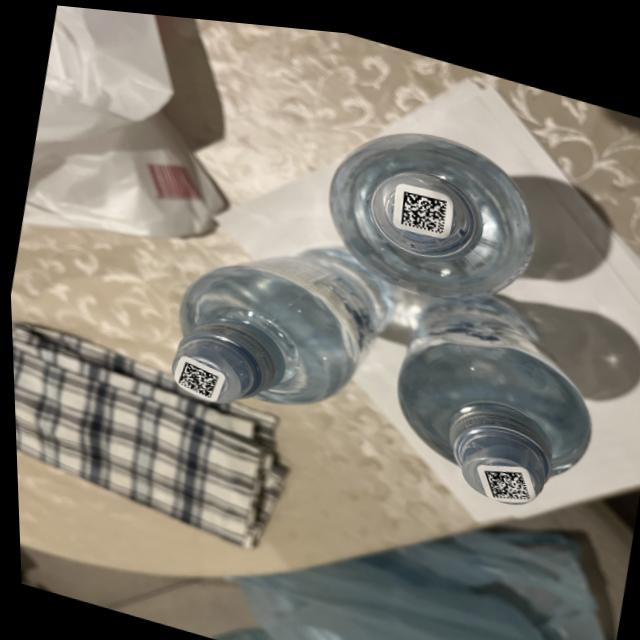datamatrix: (477, 452, 532, 498), (396, 180, 448, 228), (174, 357, 218, 396)
